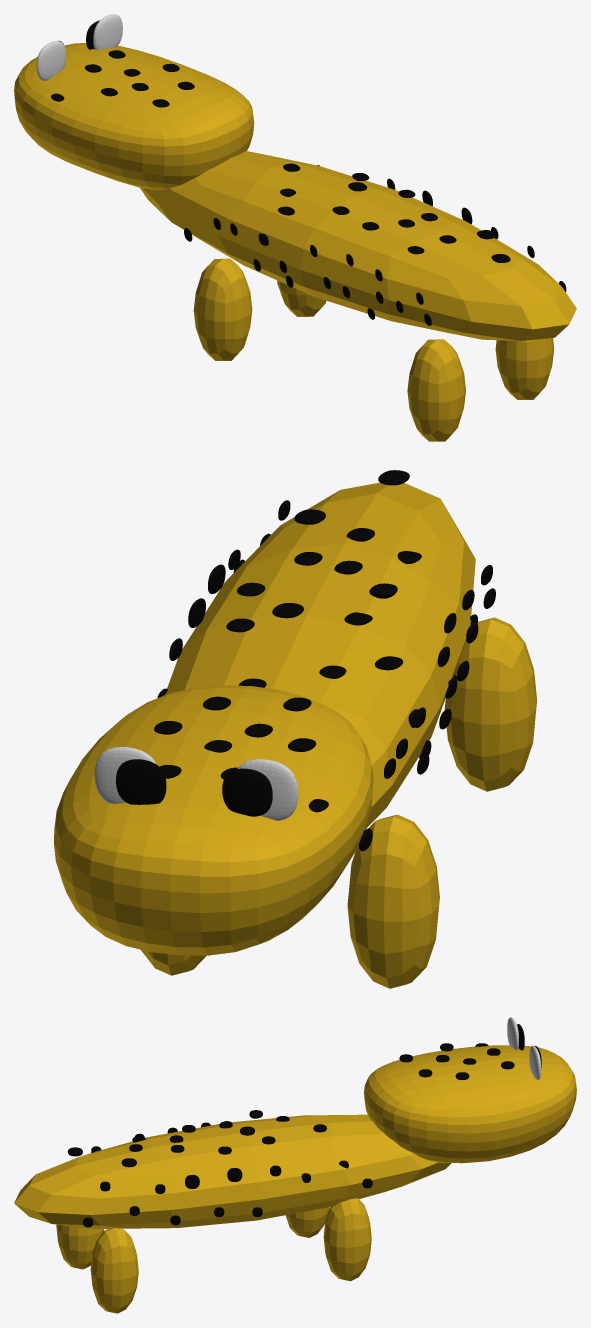
The model's file is onca.fbx.
The picture shows the model from 3 angles, top to bottom: view 1: azimuth 30°, elevation 25°; view 2: azimuth 150°, elevation 25°; view 3: azimuth 270°, elevation 25°; orthographic projection. The views are drawn at different scales.
Visible parts, largest first — view 1: Cube; view 2: Cube; view 3: Cube.
Boxes of the visible parts, x1,y1,x2,y2 form: Cube: (14,14,576,441); Cube: (54,470,536,988); Cube: (14,1017,576,1313).
Bounding box in the file's own units: 3.52 × 2.8 × 7.19.
